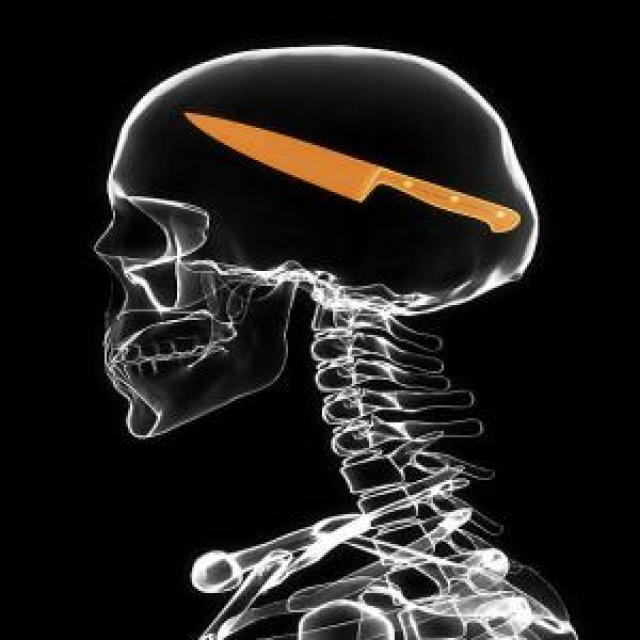knife: (177, 100, 525, 234)
